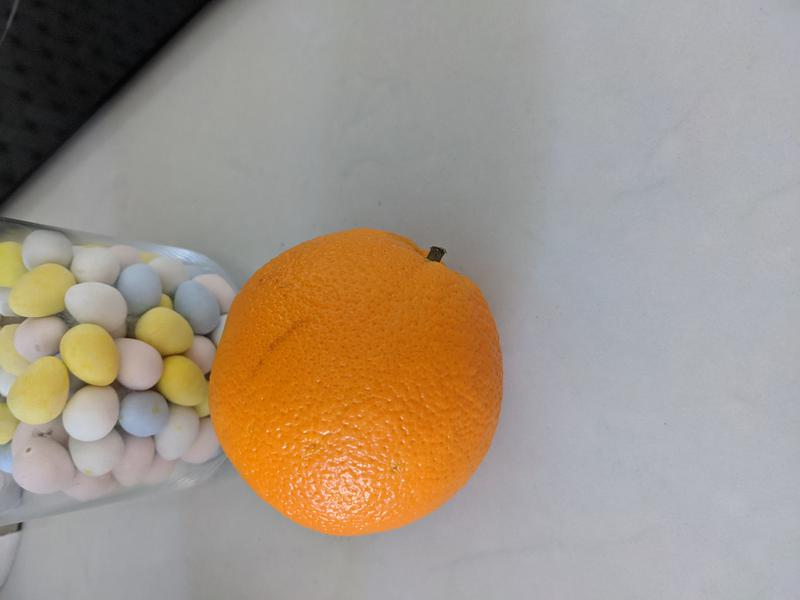orange: (207, 228, 505, 537)
